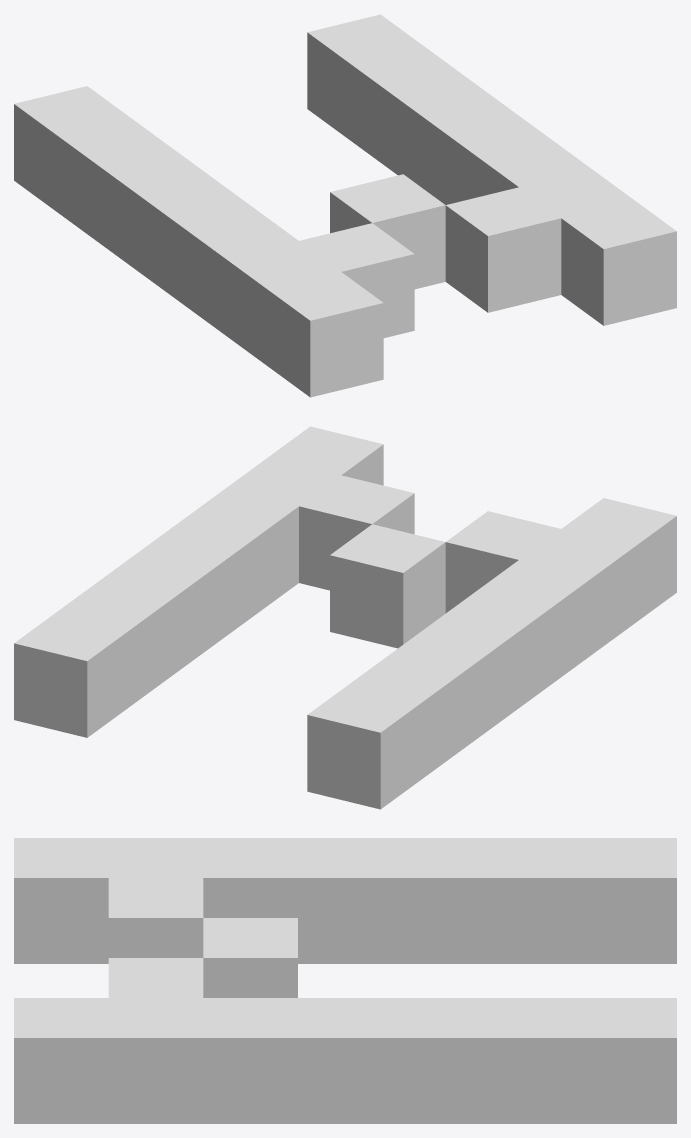
File: amort.obj
3 renders of one model, top to bottom at view 1: azimuth 30°, elevation 25°; view 2: azimuth 150°, elevation 25°; view 3: azimuth 270°, elevation 25°, orthographic. The views are drawn at different scales.
Size of the model in its own units: 5 by 1 by 7.
1 material, 1 textured.
